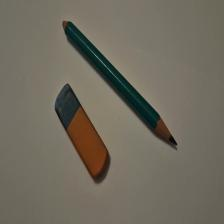eraser: (56, 84, 110, 180)
pencil: (64, 21, 179, 147)
